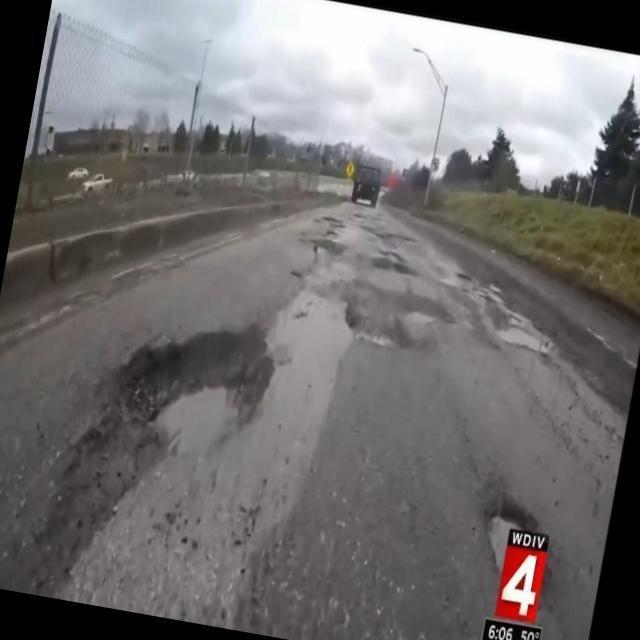Pothole: (136, 337, 265, 445), (498, 312, 546, 355), (353, 317, 418, 346)
